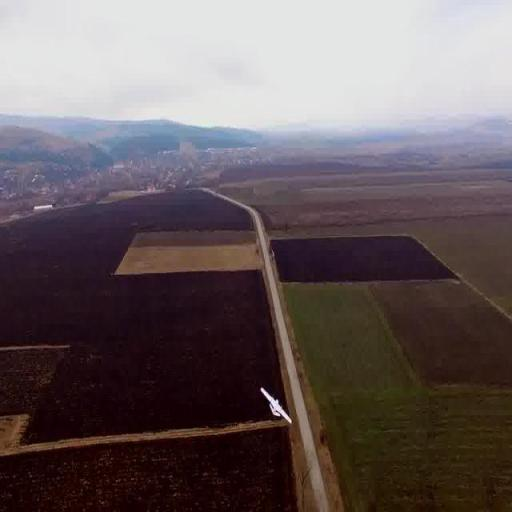uav: (256, 374, 302, 440)
